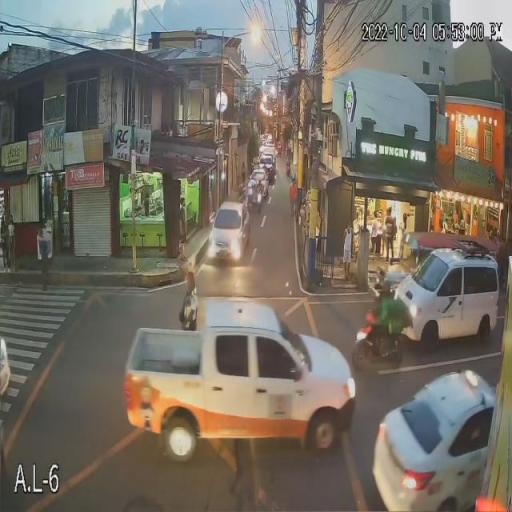helmet: (380, 282, 394, 298)
motorcycle: (345, 314, 410, 370)
rider: (377, 280, 393, 356)
